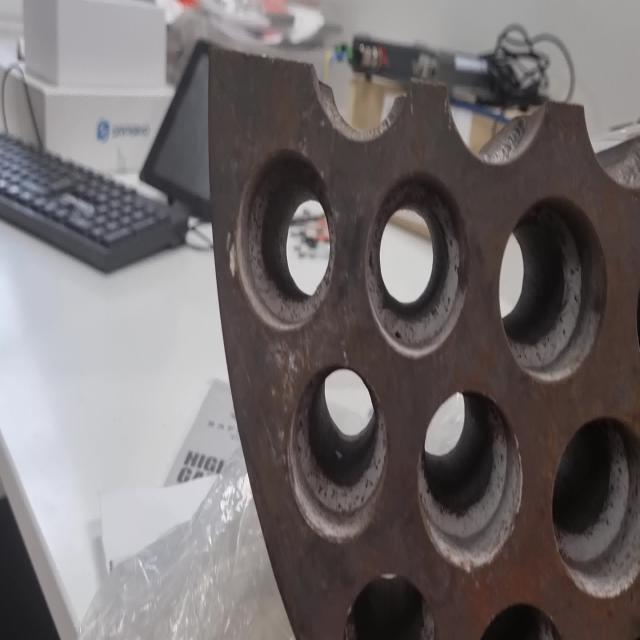Hole: (498, 194, 607, 382), (362, 170, 470, 358), (229, 146, 337, 332), (418, 387, 524, 571), (287, 364, 389, 542), (551, 414, 639, 600), (342, 573, 440, 640), (469, 599, 573, 640)
